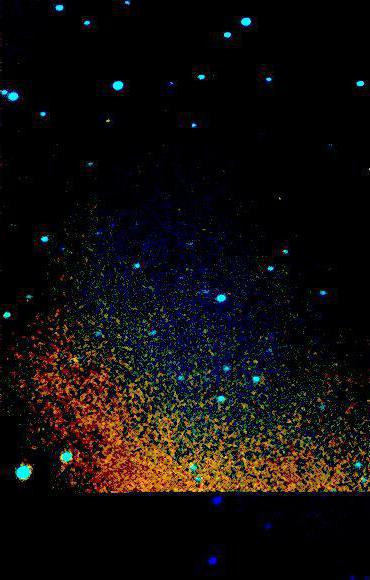star: (93, 106, 123, 136)
